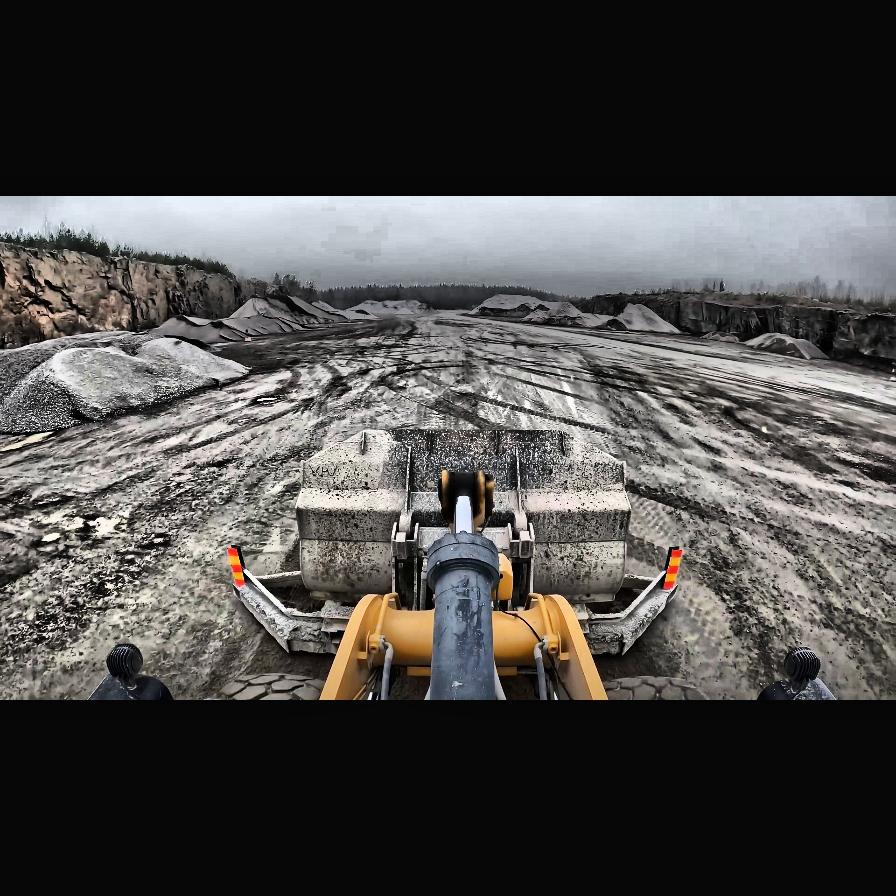anchor: (440, 469, 491, 531)
pile of gravel: (3, 336, 248, 432), (0, 363, 96, 432), (50, 347, 152, 395), (224, 294, 346, 330), (155, 315, 267, 345), (742, 333, 831, 359), (602, 302, 678, 332), (342, 299, 435, 319), (470, 294, 546, 308), (571, 312, 613, 328), (700, 332, 742, 342), (381, 300, 409, 308)
